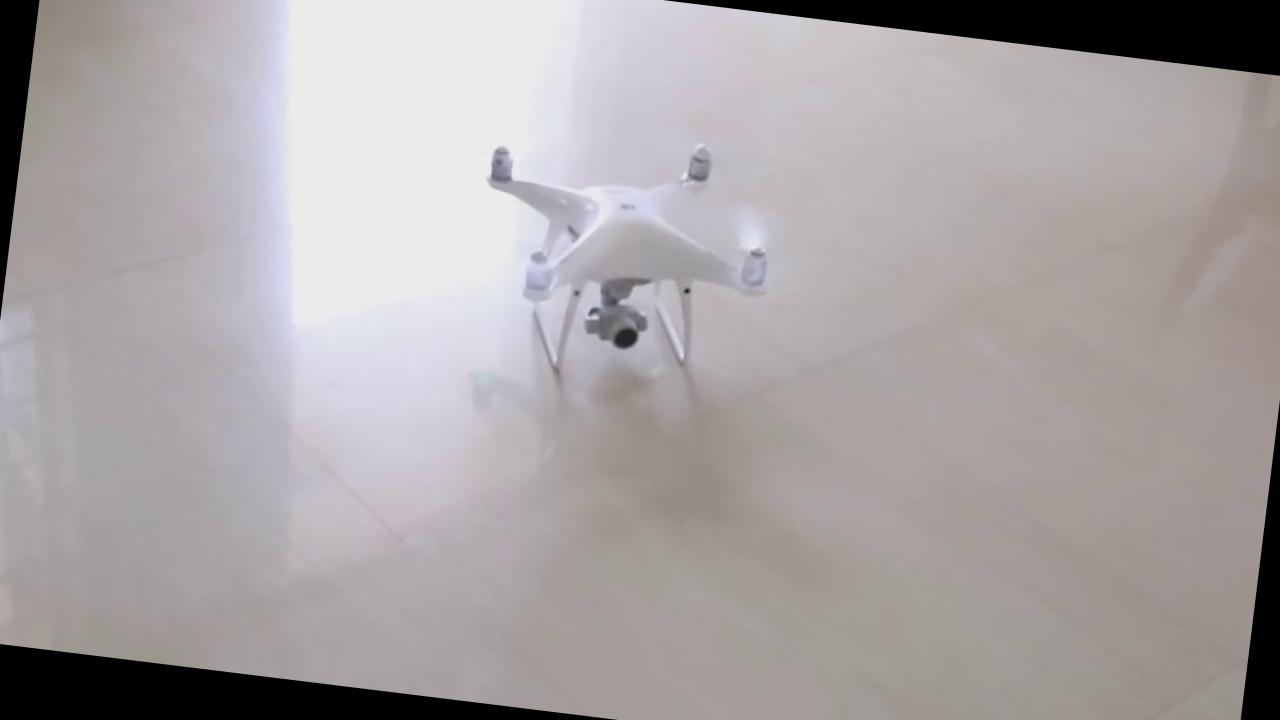drone: (459, 107, 803, 341)
